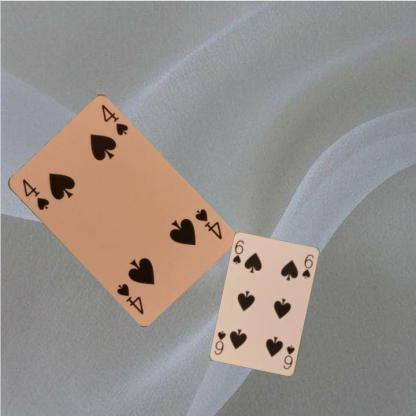4s: (19, 176, 50, 212), (192, 206, 223, 241)
6s: (230, 237, 246, 266), (281, 343, 296, 371)
